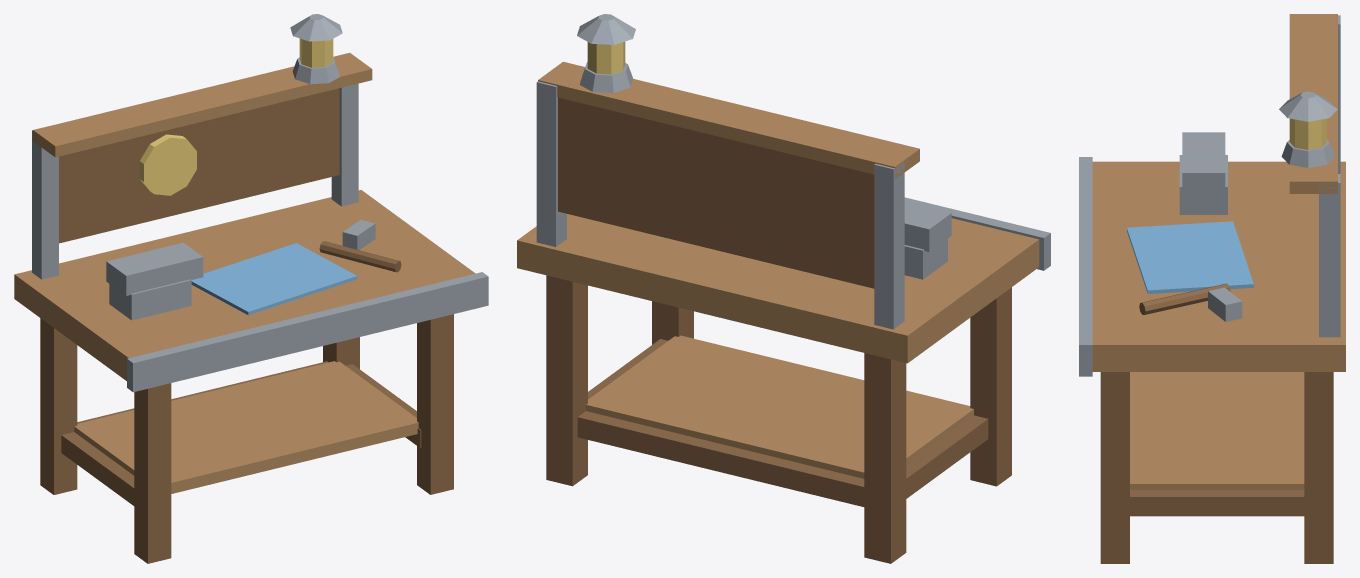
Rendered from SM_CraftingTable.fbx.
3 renders of one model, left to right at view 1: azimuth 30°, elevation 25°; view 2: azimuth 150°, elevation 25°; view 3: azimuth 270°, elevation 25°, orthographic. The views are drawn at different scales.
Parts seen in each view (by area): view 1: TableTop, LowerShelf, BackBoard, TableTrimFront, TopShelf, Leg_-0.66_-0.38, Blueprint, Leg_0.66_-0.38, Leg_-0.66_0.38, AnvilTop, PostLeft, GearDecor (+10 smaller); view 2: BackBoard, TableTop, LowerShelf, TopShelf, Leg_-0.66_0.38, StretcherBack, Leg_0.66_0.38, Leg_-0.66_-0.38, PostLeft, PostRight, StretcherLeft, AnvilTop (+7 smaller); view 3: TableTop, LowerShelf, Blueprint, TopShelf, Leg_0.66_-0.38, Leg_0.66_0.38, StretcherRight, PostRight, TableTrimFront, AnvilTop, AnvilBase, LanternCap (+5 smaller).
Boxes of the visible parts, x1=… form: TableTop: x1=14, y1=190, x2=475, y2=380; LowerShelf: x1=74, y1=361, x2=418, y2=493; BackBoard: x1=59, y1=88, x2=339, y2=243; TableTrimFront: x1=127, y1=272, x2=488, y2=392; TopShelf: x1=33, y1=53, x2=372, y2=157; Leg_-0.66_-0.38: x1=134, y1=383, x2=171, y2=563; Blueprint: x1=191, y1=243, x2=357, y2=315; Leg_0.66_-0.38: x1=417, y1=314, x2=453, y2=494; Leg_-0.66_0.38: x1=40, y1=318, x2=77, y2=494; AnvilTop: x1=106, y1=242, x2=203, y2=295; PostLeft: x1=32, y1=130, x2=58, y2=279; GearDecor: x1=139, y1=134, x2=196, y2=195; BackBoard: x1=558, y1=97, x2=874, y2=288; TableTop: x1=517, y1=214, x2=1039, y2=363; LowerShelf: x1=586, y1=335, x2=973, y2=478; TopShelf: x1=538, y1=61, x2=919, y2=178; Leg_-0.66_0.38: x1=864, y1=353, x2=906, y2=563; StretcherBack: x1=577, y1=411, x2=864, y2=506; Leg_0.66_0.38: x1=546, y1=275, x2=587, y2=486; Leg_-0.66_-0.38: x1=970, y1=287, x2=1011, y2=486; PostLeft: x1=874, y1=161, x2=904, y2=329; PostRight: x1=536, y1=81, x2=566, y2=246; StretcherLeft: x1=906, y1=415, x2=988, y2=498; AnvilTop: x1=904, y1=202, x2=951, y2=251; TableTop: x1=1092, y1=161, x2=1345, y2=371; LowerShelf: x1=1130, y1=372, x2=1304, y2=489; Blueprint: x1=1127, y1=221, x2=1253, y2=293; TopShelf: x1=1289, y1=14, x2=1337, y2=193; Leg_0.66_-0.38: x1=1100, y1=372, x2=1129, y2=563; Leg_0.66_0.38: x1=1304, y1=372, x2=1333, y2=563; StretcherRight: x1=1130, y1=490, x2=1304, y2=516; PostRight: x1=1319, y1=174, x2=1340, y2=337; TableTrimFront: x1=1079, y1=157, x2=1092, y2=376; AnvilTop: x1=1182, y1=132, x2=1225, y2=194; AnvilBase: x1=1179, y1=155, x2=1227, y2=214; LanternCap: x1=1279, y1=91, x2=1337, y2=121.
Bounding box in the file's own units: 1.66 × 1.84 × 0.995.
